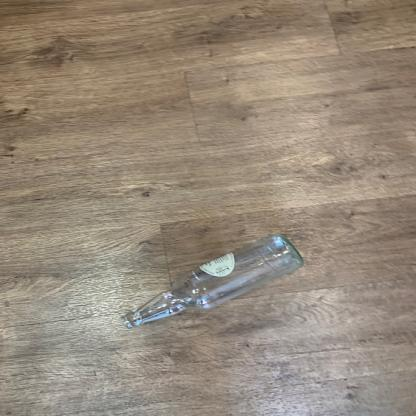trash: (119, 233, 306, 333)
